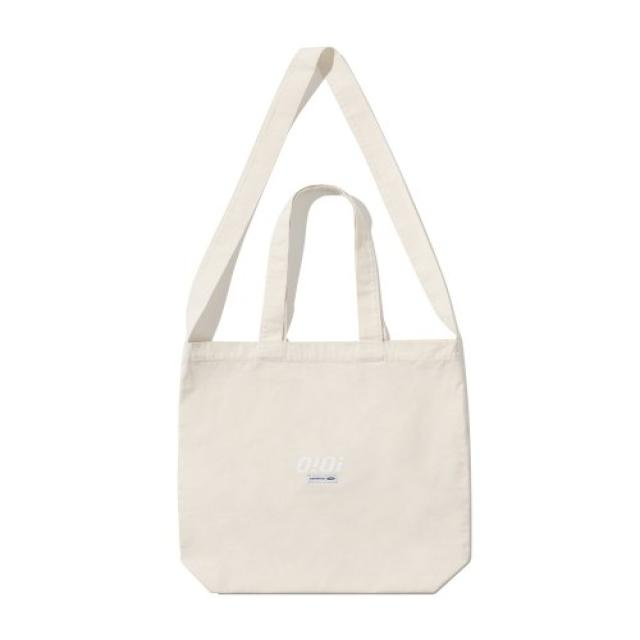ecobag: (134, 41, 505, 610)
